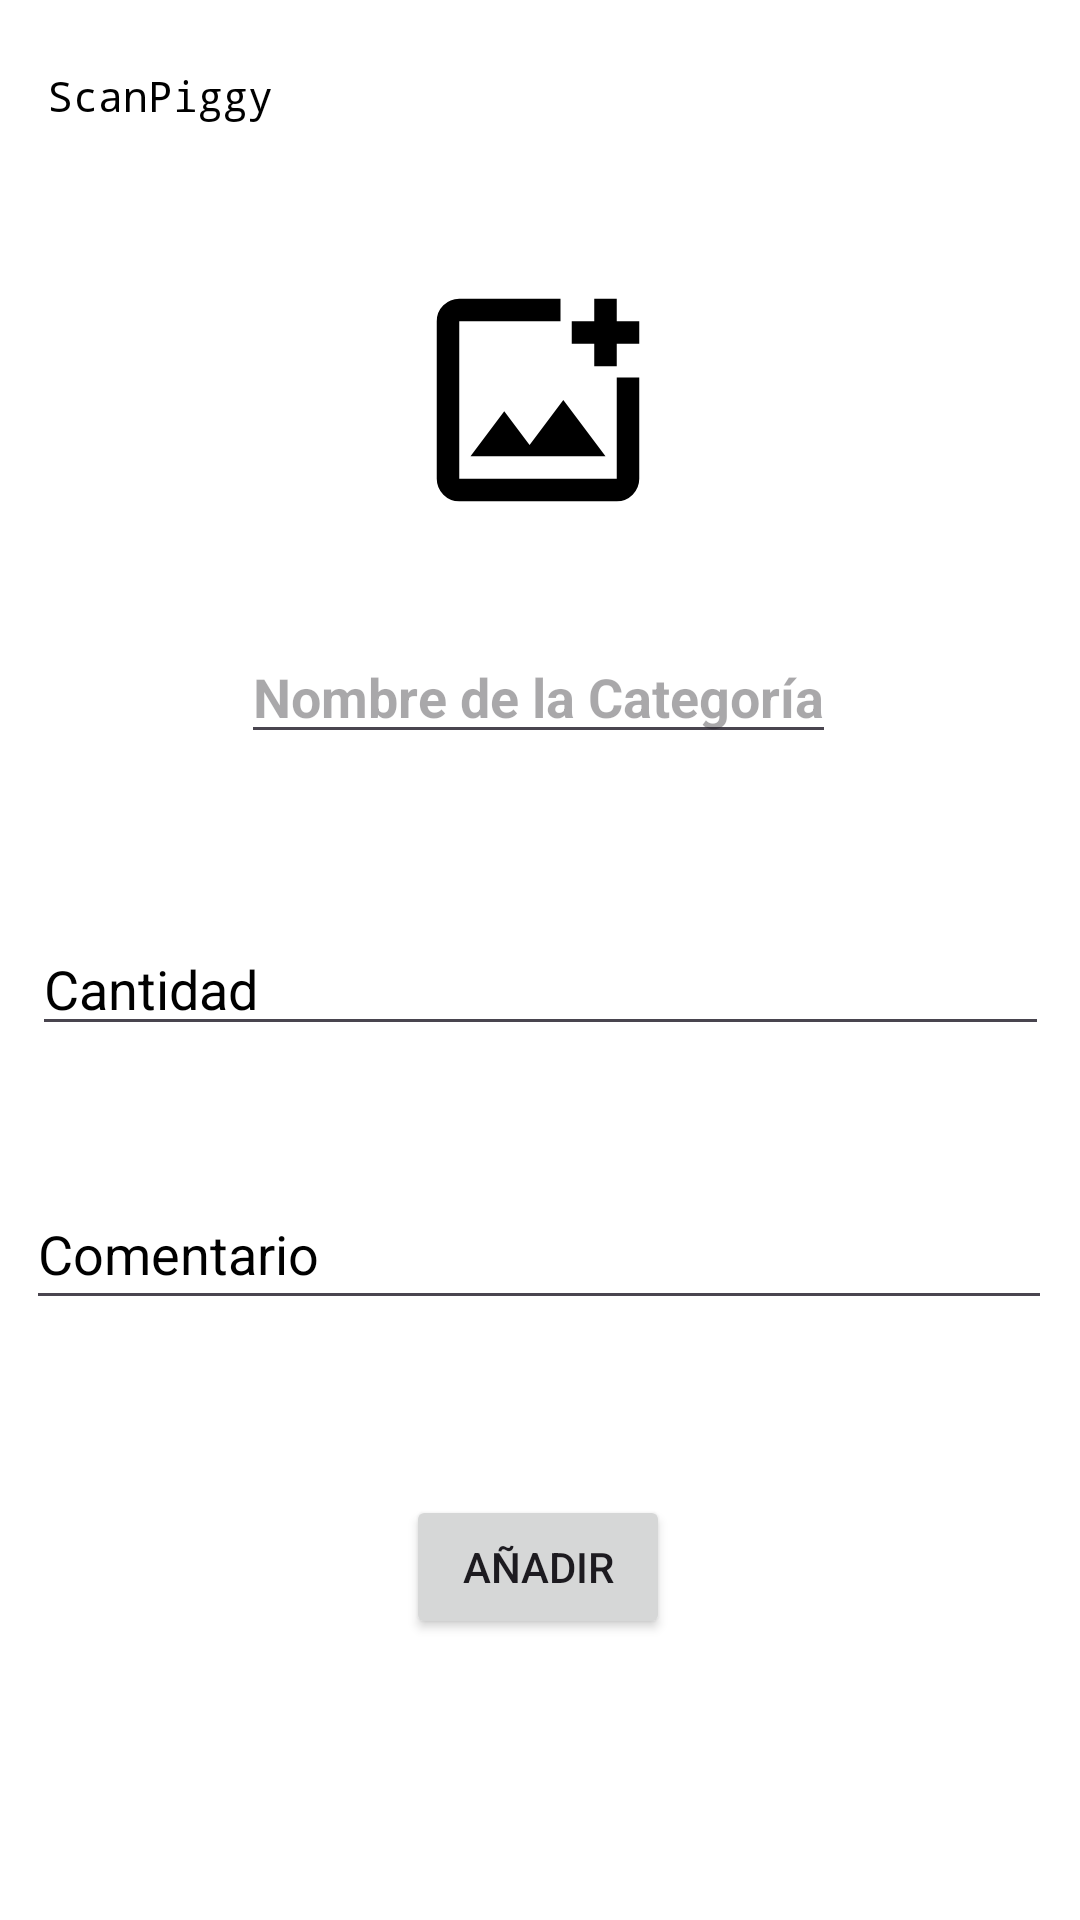

Screen size 1080px x 1920px. Icon name, then its box in pixels as rect(x1, y1, x2, y2):
addphotoalternate: rect(436, 298, 640, 502)
